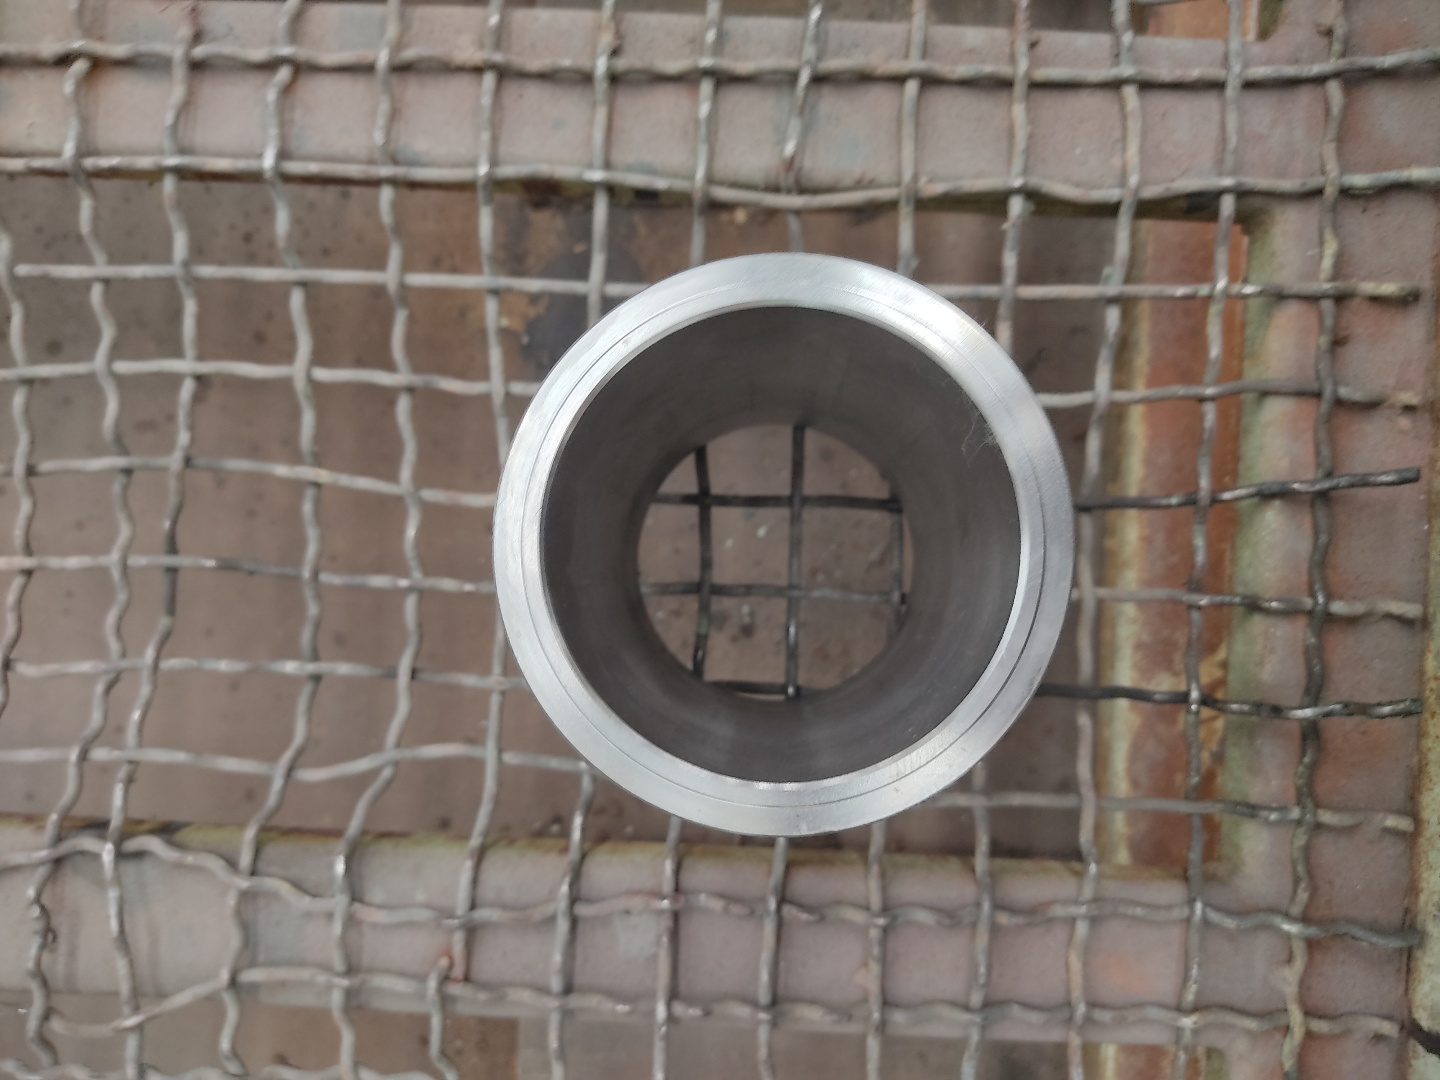cylinder: (486, 247, 1079, 842)
